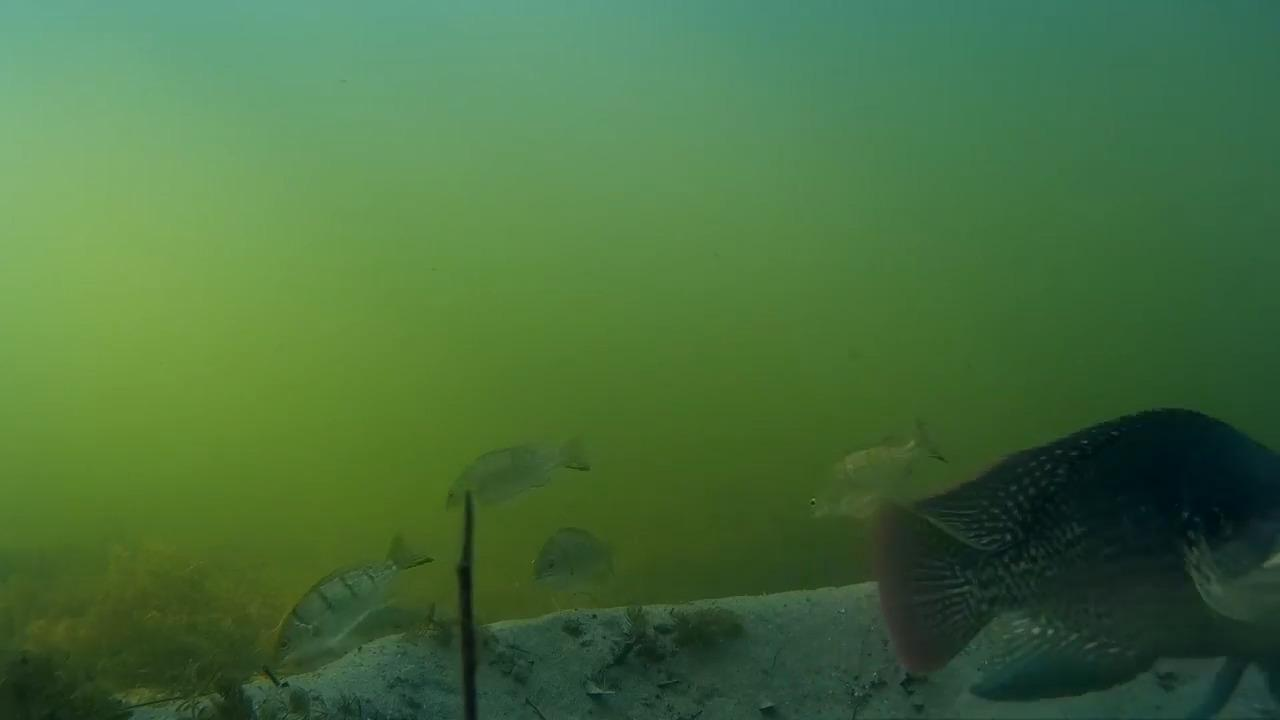Tilapia: (895, 404, 1280, 720), (266, 544, 441, 705), (433, 424, 606, 512), (809, 426, 938, 520), (638, 610, 641, 612)
